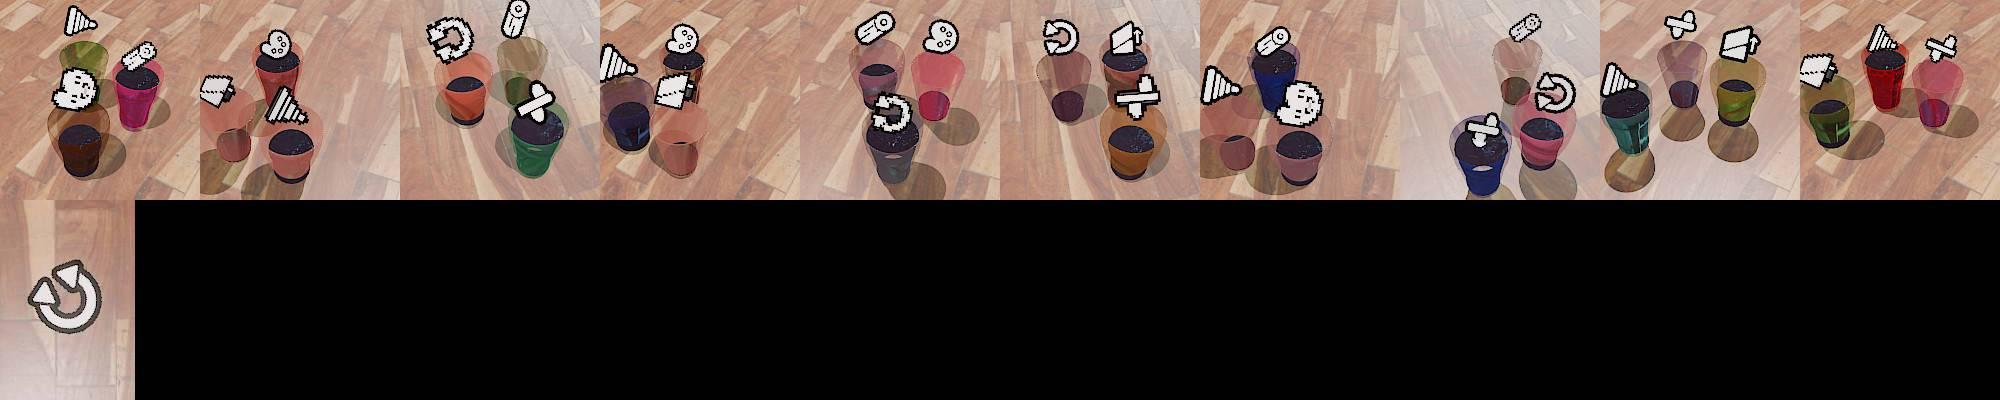icon: (27, 259, 106, 335), (1273, 79, 1324, 127), (425, 17, 474, 64), (1114, 73, 1162, 118), (51, 65, 98, 111), (513, 79, 557, 124), (264, 84, 311, 125), (1533, 70, 1577, 113), (653, 70, 699, 111), (1200, 65, 1242, 106), (1717, 24, 1761, 62), (597, 42, 638, 83), (1601, 61, 1642, 101), (1106, 19, 1145, 59), (855, 10, 895, 47), (1042, 18, 1079, 59), (1798, 52, 1838, 89), (872, 93, 912, 130), (922, 18, 959, 54), (198, 74, 237, 107), (1255, 24, 1292, 59), (1464, 112, 1503, 145), (501, 0, 532, 41), (119, 41, 158, 71), (665, 22, 700, 55), (64, 5, 98, 38), (259, 29, 293, 61), (1665, 9, 1699, 39), (1509, 13, 1542, 43), (1867, 23, 1901, 54), (1923, 34, 1957, 64)
